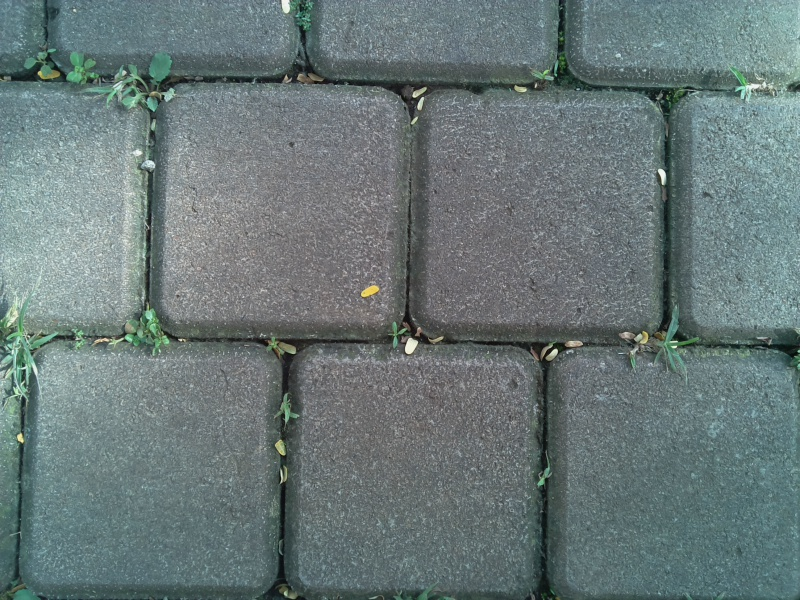Weed: (3, 282, 53, 408), (626, 306, 691, 376), (123, 54, 181, 117), (119, 307, 176, 355), (724, 61, 774, 104), (17, 42, 57, 83), (63, 49, 100, 92), (270, 389, 303, 430), (530, 451, 557, 493), (526, 63, 558, 94), (383, 316, 408, 355), (256, 330, 285, 361), (65, 323, 91, 355)
